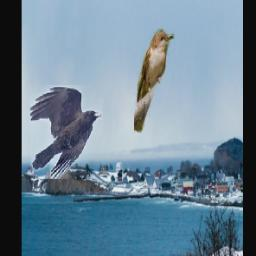Crow: (30, 86, 103, 180)
Cuckoo: (133, 28, 174, 133)
